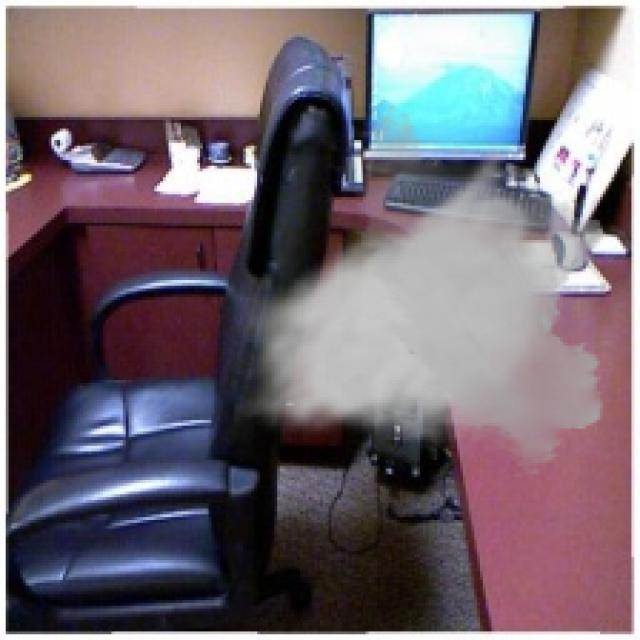smoke: (235, 103, 614, 477)
